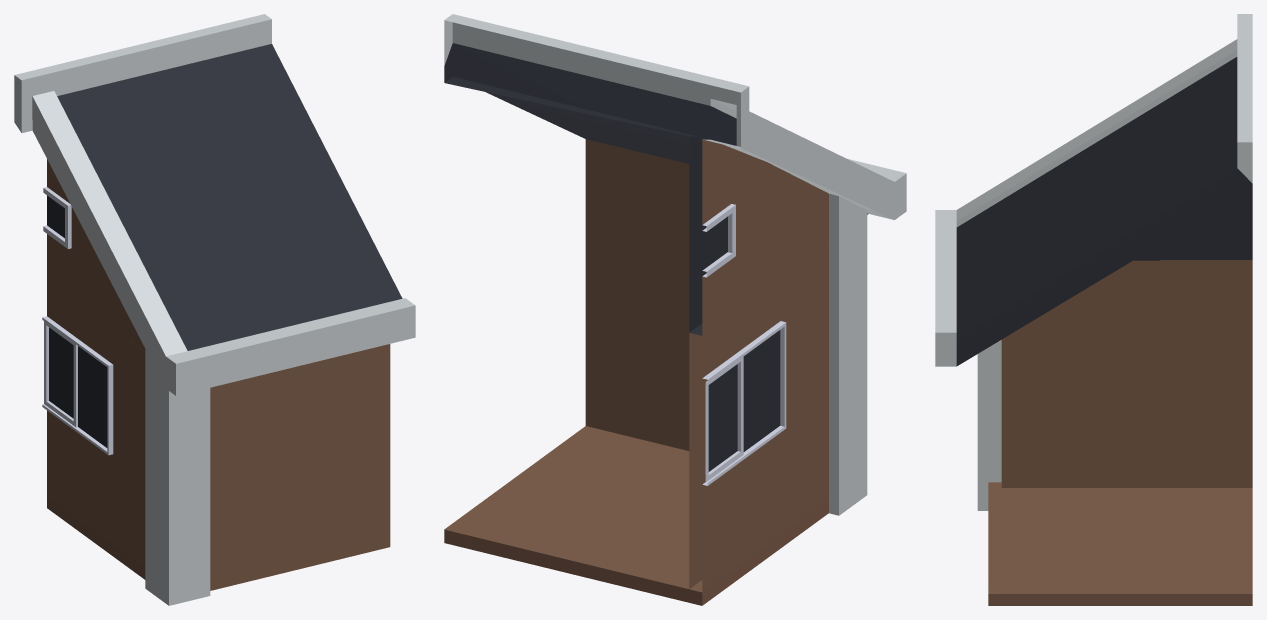
File: Hut.fbx
3 views of the same model, side by side, from view 1: azimuth 30°, elevation 25°; view 2: azimuth 150°, elevation 25°; view 3: azimuth 270°, elevation 25° (orthographic). The views are drawn at different scales.
Parts seen in each view (by area): view 1: Hut_Roof, Hut_Wall, Hut_Floor; view 2: Hut_Wall, Hut_Roof, Hut_Floor; view 3: Hut_Wall, Hut_Roof, Hut_Floor.
Boxes of the visible parts, box(x1,y1,x2,y2) form: Hut_Roof: box(14, 14, 415, 395); Hut_Wall: box(42, 280, 390, 605); Hut_Floor: box(47, 497, 390, 590); Hut_Wall: box(585, 139, 867, 591); Hut_Roof: box(444, 14, 906, 335); Hut_Floor: box(444, 426, 828, 605); Hut_Wall: box(977, 260, 1252, 593); Hut_Roof: box(935, 14, 1252, 366); Hut_Floor: box(988, 482, 1252, 605).
Bounding box in the file's own units: 230 × 387 × 240.
